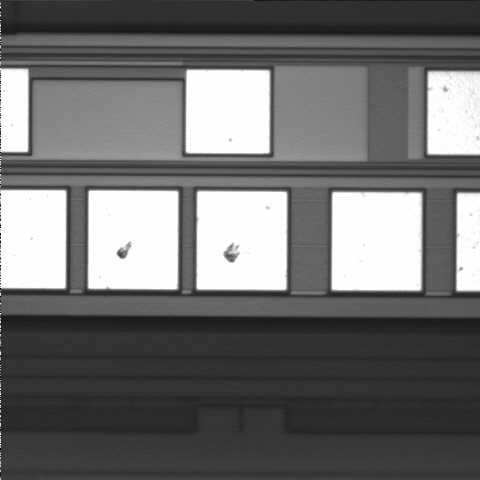pad: (197, 191, 287, 290), (88, 191, 178, 289), (332, 192, 422, 290), (186, 70, 270, 153)
